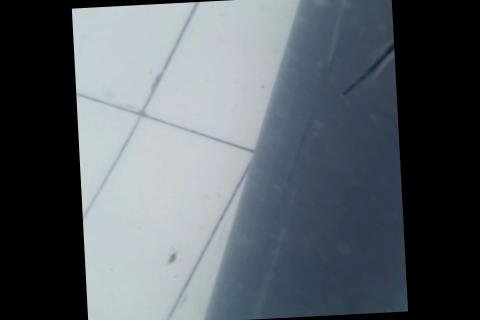keretakan: (337, 38, 397, 95)
